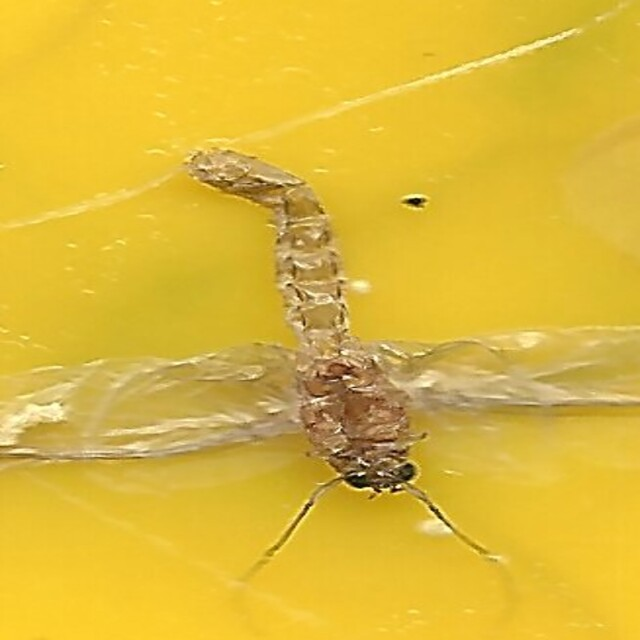Ephemeroptera: (196, 138, 444, 502)
